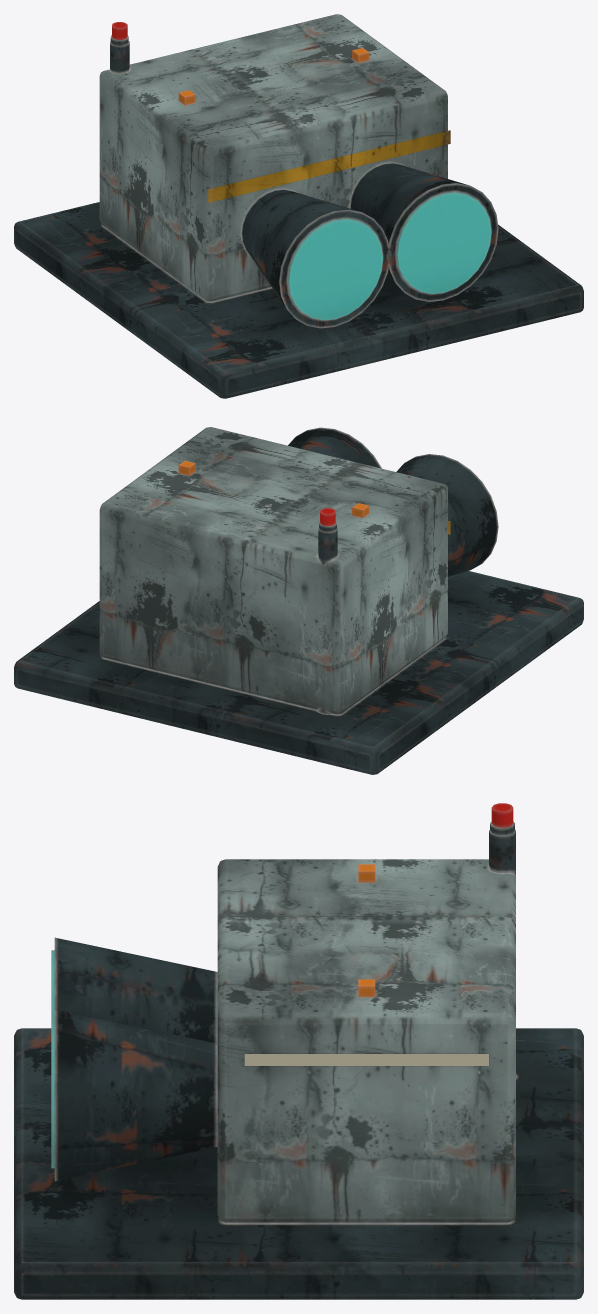
The model's file is ion_drive.glb.
The picture shows the model from 3 angles, top to bottom: view 1: azimuth 30°, elevation 25°; view 2: azimuth 150°, elevation 25°; view 3: azimuth 270°, elevation 25°; orthographic projection. The views are drawn at different scales.
Visible parts, largest first — view 1: te_ion_drive; view 2: te_ion_drive; view 3: te_ion_drive.
Part boxes in pixels (box(x1,y1,x2,y2)): te_ion_drive: box(14, 14, 583, 398); te_ion_drive: box(14, 427, 583, 774); te_ion_drive: box(14, 803, 583, 1299).
Bounding box in the file's own units: 0.84 × 0.4976 × 0.84.
Materials: 1 (1 with a texture image).
